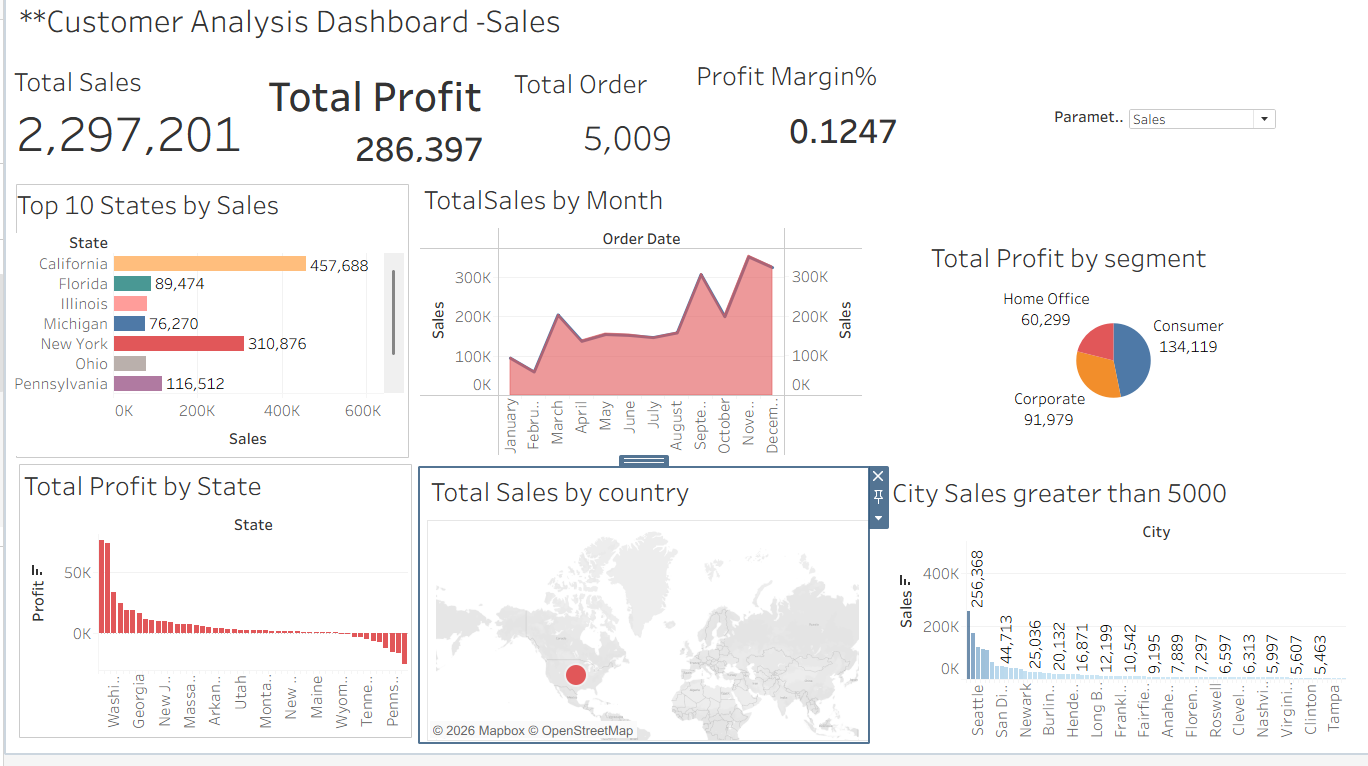

The page's visual inventory and layout, read from the dashboard file:
{"tool":"tableau","page":{"name":"Dashboard 1","canvas":[1366,768],"ordinal":0},"visuals":[{"type":"title","box":[8,8,1350,50]},{"type":"worksheet","title":"Profit Margin%","mark":"Automatic","box":[688,67,210,102]},{"type":"worksheet","title":"Total Sales ","mark":"Text","box":[6,73,236,95]},{"type":"worksheet","title":"Total Order","mark":"Automatic","box":[506,75,167,101]},{"type":"worksheet","title":"Total Profit","mark":"Text","box":[260,76,224,99]},{"type":"parameter","param":"[Parameters].[Parameter 1973667358375937]","box":[1046,115,233,46]},{"type":"worksheet","title":"TotalSales by Month","mark":"Automatic","rows":["Sales","Sales"],"cols":["Order Date"],"box":[416,191,443,278]},{"type":"worksheet","title":"Top 10 States by Sales","mark":"Automatic","rows":["State"],"cols":["Sales"],"box":[9,196,391,273]},{"type":"worksheet","title":"Total Profit by segment","mark":"Pie","box":[923,249,373,199]},{"type":"worksheet","title":"Total Profit by State","mark":"Automatic","rows":["Profit"],"cols":["State"],"box":[16,477,388,266]},{"type":"worksheet","title":"City Sales greater than 5000","mark":"Automatic","rows":["Sales"],"cols":["City"],"box":[880,480,466,276]},{"type":"worksheet","title":"Total Sales by country","mark":"Automatic","box":[423,483,437,271]}]}

Visuals, with their boxes in screenshot pixels (x1, y1, x2, y2), scaled from the page's 1366x768 canvas onto the 1368x766 screenshot:
title: region(8, 8, 1360, 58)
"Profit Margin%" worksheet: region(689, 67, 899, 169)
"Total Sales " worksheet (Text marks): region(6, 73, 242, 168)
"Total Order" worksheet: region(507, 75, 674, 176)
"Total Profit" worksheet (Text marks): region(260, 76, 485, 175)
parameter: region(1048, 115, 1281, 161)
"TotalSales by Month" worksheet: region(417, 191, 860, 468)
"Top 10 States by Sales" worksheet: region(9, 195, 401, 468)
"Total Profit by segment" worksheet (Pie marks): region(924, 248, 1298, 447)
"Total Profit by State" worksheet: region(16, 476, 405, 741)
"City Sales greater than 5000" worksheet: region(881, 479, 1348, 754)
"Total Sales by country" worksheet: region(424, 482, 861, 752)
